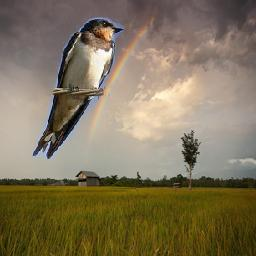Swallow: (32, 17, 124, 159)
